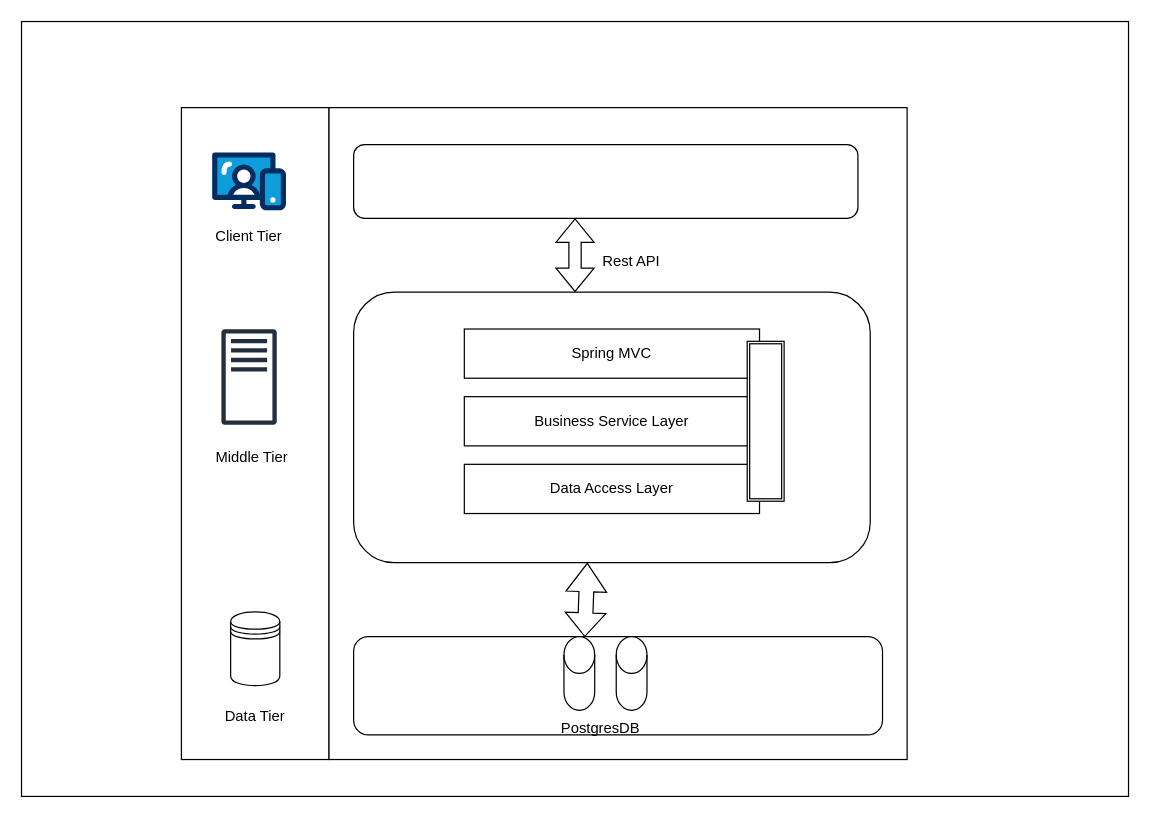
Some shapes in this 1150 by 818 pixel diagram are drawn without their labels. Each missing label, with the centre of its shape:
"DI Spring boot" goes at (x=765, y=420).
"React Single Page APP" goes at (x=605, y=180).
